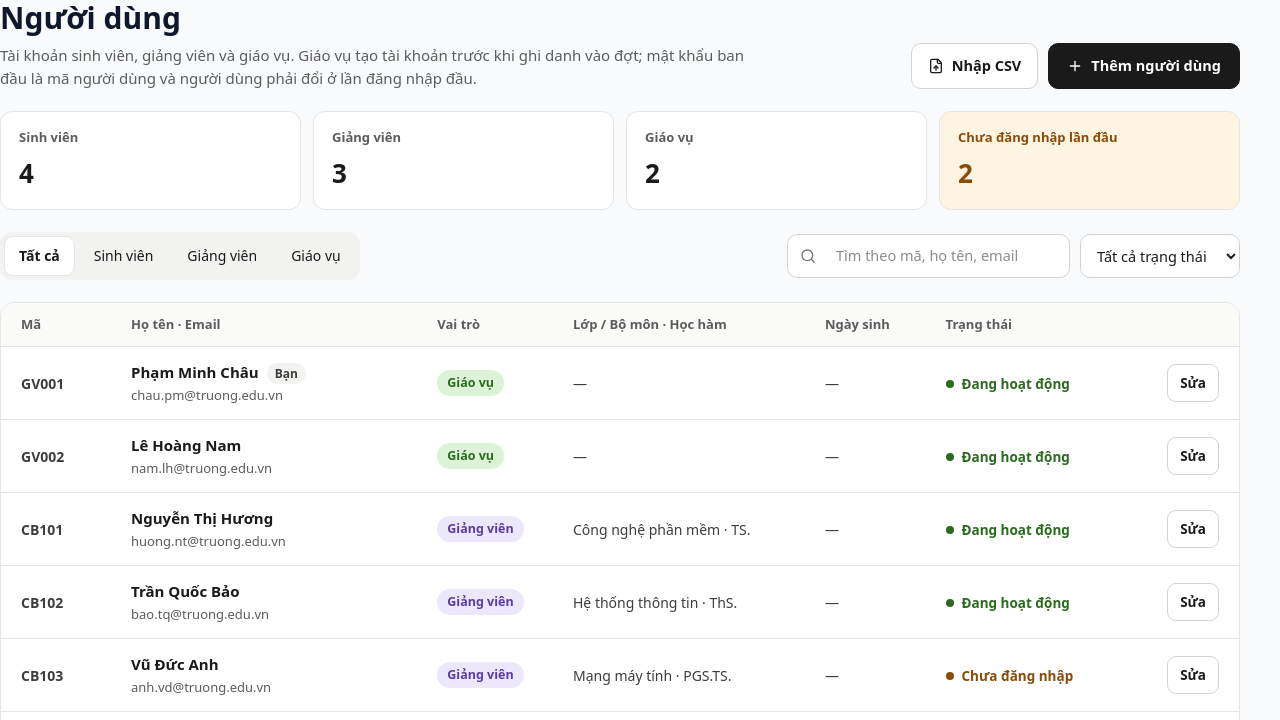
it: blocks the signed-in staff member from disabling or deleting themselves
The width and height of the screenshot is (1280, 720).
Click the button "Sửa" in the row of "GV001".
click(1193, 383)  # box left=1167, top=364, right=1219, bottom=402
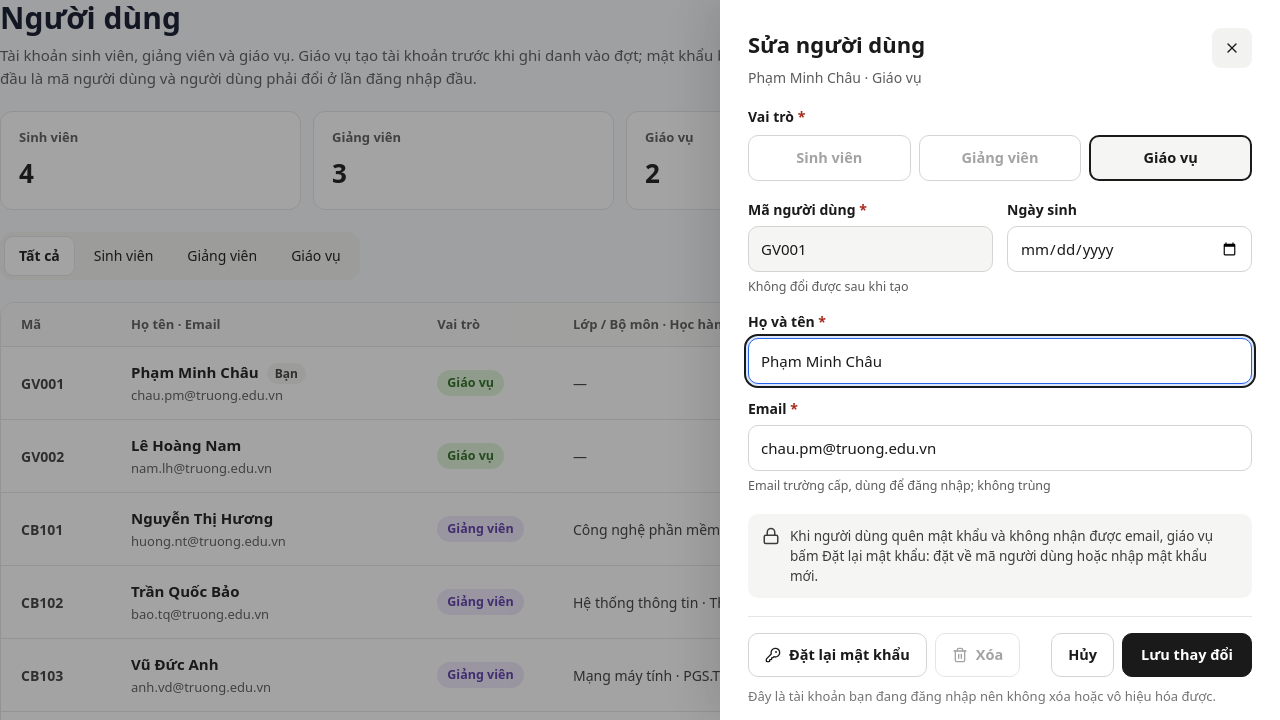
Check: the button "Xóa" is disabled, box left=935, top=633, right=1020, bottom=677
Check: the text "không xóa hoặc vô hiệu hóa được" is shown, box left=748, top=687, right=1216, bottom=705
